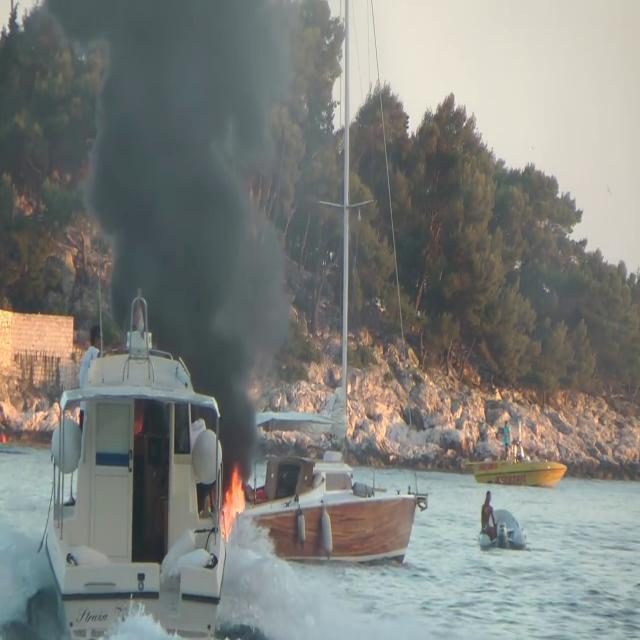Fire: (220, 462, 247, 538)
Smoke: (78, 1, 312, 406)
